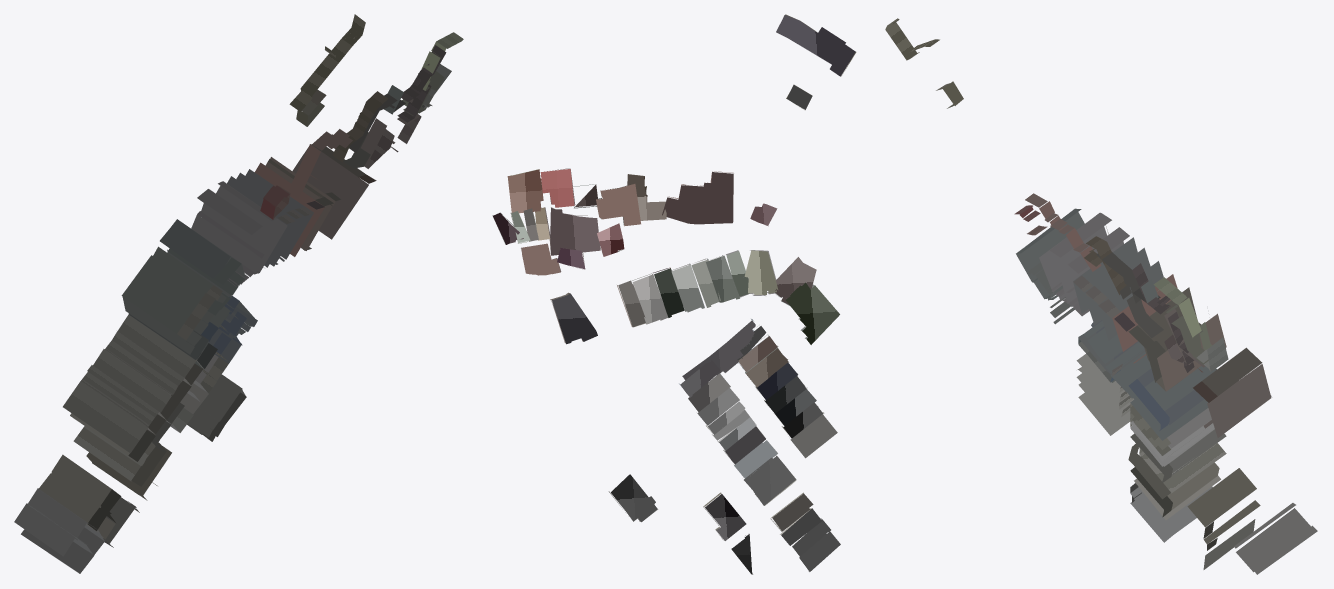
Rendered from tile_LOD3_r4_c7.glb.
3 views of the same model, side by side, from view 1: azimuth 30°, elevation 25°; view 2: azimuth 150°, elevation 25°; view 3: azimuth 270°, elevation 25° (orthographic). The views are drawn at different scales.
Bounding box in the file's own units: 142 × 185 × 121.
Materials: 157 (106 with a texture image).
